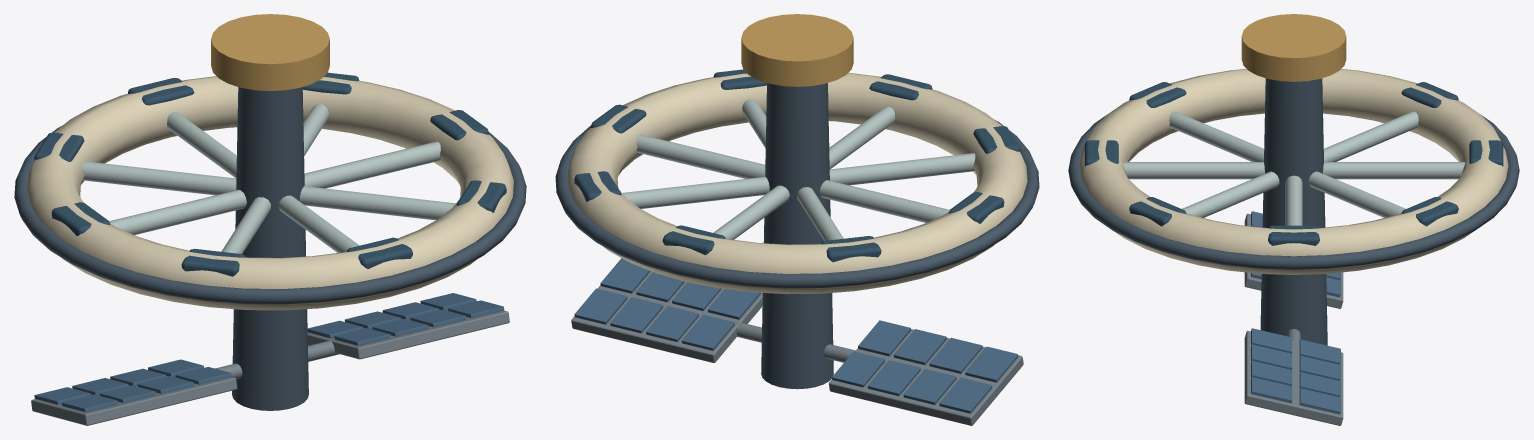
File: kestrel.glb
The picture shows the model from 3 angles, left to right: view 1: azimuth 30°, elevation 25°; view 2: azimuth 150°, elevation 25°; view 3: azimuth 270°, elevation 25°; orthographic projection. The views are drawn at different scales.
Parts seen in each view (by area): view 1: Rotating habitat rim, Axial spindle, Spoke truss (×8), Outer docking lane, Collector cell (×16), Arrival collar, Habitat segment (×8), Panel backing (×2), Solar spar; view 2: Rotating habitat rim, Collector cell (×16), Axial spindle, Spoke truss (×8), Outer docking lane, Panel backing (×2), Arrival collar, Habitat segment (×8), Solar spar; view 3: Rotating habitat rim, Spoke truss (×7), Axial spindle, Outer docking lane, Arrival collar, Collector cell (×8), Habitat segment (×7), Panel backing (×2).
Part boxes in pixels (bbox=[...]): Rotating habitat rim: bbox=[27, 76, 513, 310]; Axial spindle: bbox=[232, 87, 308, 410]; Spoke truss (×8): bbox=[82, 104, 455, 253]; Outer docking lane: bbox=[14, 125, 526, 304]; Collector cell (×16): bbox=[34, 293, 504, 412]; Arrival collar: bbox=[211, 14, 329, 90]; Habitat segment (×8): bbox=[34, 72, 506, 276]; Panel backing (×2): bbox=[31, 309, 509, 425]; Solar spar: bbox=[215, 340, 339, 379]; Rotating habitat rim: bbox=[567, 72, 1027, 294]; Collector cell (×16): bbox=[574, 258, 1018, 413]; Axial spindle: bbox=[761, 83, 833, 389]; Spoke truss (×8): bbox=[622, 99, 975, 240]; Outer docking lane: bbox=[555, 119, 1039, 288]; Panel backing (×2): bbox=[571, 271, 1023, 425]; Arrival collar: bbox=[741, 14, 853, 86]; Habitat segment (×8): bbox=[574, 69, 1020, 262]; Solar spar: bbox=[736, 323, 855, 362]; Rotating habitat rim: bbox=[1079, 69, 1508, 274]; Spoke truss (×7): bbox=[1123, 111, 1464, 225]; Axial spindle: bbox=[1260, 78, 1327, 345]; Outer docking lane: bbox=[1068, 115, 1519, 269]; Arrival collar: bbox=[1241, 14, 1346, 81]; Collector cell (×8): bbox=[1251, 328, 1340, 414]; Habitat segment (×7): bbox=[1084, 82, 1503, 245]; Panel backing (×2): bbox=[1244, 213, 1343, 425].
Bounding box in the file's own units: 2.93 × 2.25 × 2.93.
